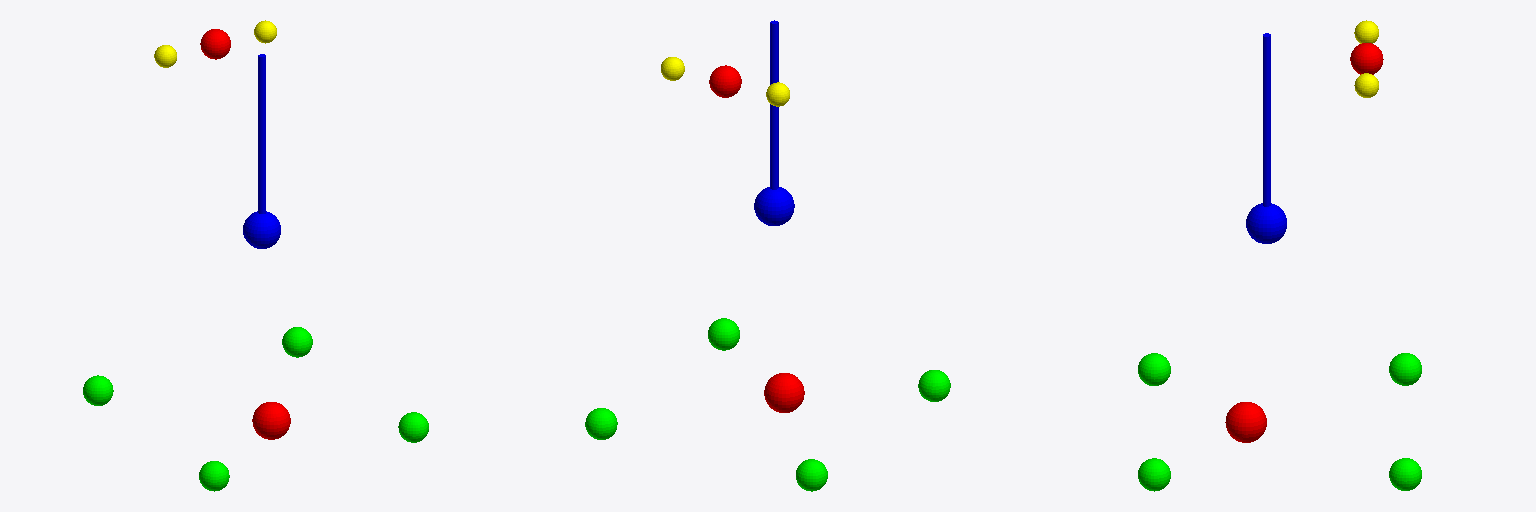
robot.urdf — foldable_chair_gen:
<?xml version="1.0"?>
<robot name="foldable_chair_gen">

  <link name="link_2">
    <inertial>
      <mass value="1.0" /> <inertia ixx="0.01" ixy="0" ixz="0" iyy="0.01" iyz="0" izz="0.01" />
    </inertial>
    <visual>
      <geometry><sphere radius="0.05"/></geometry>
      <material name="anchor_red"><color rgba="1 0 0 1"/></material>
    </visual>
  </link>

  <link name="slide_link_x">
    <inertial>
      <mass value="0.01" />
      <inertia ixx="0.001" ixy="0" ixz="0" iyy="0.001" iyz="0" izz="0.001" />
    </inertial>
  </link>

  <link name="slide_link_y">
    <inertial>
      <mass value="0.01" />
      <inertia ixx="0.001" ixy="0" ixz="0" iyy="0.001" iyz="0" izz="0.001" />
    </inertial>
  </link>


  <joint name="floor_slide_x" type="prismatic">
    <parent link="link_2" />
    <child link="slide_link_x" />
    <axis xyz="1 0 0" />
    <limit lower="-10.0" upper="10.0" effort="1000.0" velocity="5.0" />
    <dynamics damping="0.1" friction="0.1" />
  </joint>

  <joint name="floor_slide_y" type="prismatic">
    <parent link="slide_link_x" />
    <child link="slide_link_y" />
    <axis xyz="0 1 0" />
    <limit lower="-10.0" upper="10.0" effort="1000.0" velocity="5.0" />
    <dynamics damping="0.1" friction="0.1" />
  </joint>

  <joint name="floor_rotate_z" type="continuous">
    <parent link="slide_link_y" />
    <child link="base_link" />
    <axis xyz="0 0 1" />
    <dynamics damping="1.0" friction="0.1" />
  </joint>

  <link name="base_link">
    <visual>
      <origin xyz="0 0 0.0006832693307789943" rpy="0 0 0" />
      <geometry>
        <mesh filename="mesh/foldable_chair.dae" scale="0.1242771356260756 0.1242771356260756 0.1242771356260756" />
      </geometry>
    </visual>
    <inertial>
      <mass value="5.0" />
      <origin xyz="1.2356480307692006e-17 0.04918193924989267 0.5275596101737766" />
      <inertia ixx="0.1" ixy="0" ixz="0" iyy="0.1" iyz="0" izz="0.1" />
    </inertial>
  </link>

  <link name="debug_top_center">
    <visual>
      <origin xyz="0 0 0" rpy="0 0 0" />
      <geometry><sphere radius="0.04" /></geometry>
      <material name="m_debug_top_center"><color rgba="1 0 0 1" /></material>
    </visual>
  </link>
  <joint name="j_debug_top_center" type="fixed">
    <parent link="base_link" />
    <child link="debug_top_center" />
    <origin xyz="0.0 0.29020362379482156 0.9632205982065832" rpy="0 0 0" />
  </joint>

  <link name="target_hand_left">
    <visual>
      <origin xyz="0 0 0" rpy="0 0 0" />
      <geometry><sphere radius="0.03" /></geometry>
      <material name="m_target_hand_left"><color rgba="1 1 0 1" /></material>
    </visual>
  </link>
  <joint name="j_target_hand_left" type="fixed">
    <parent link="base_link" />
    <child link="target_hand_left" />
    <origin xyz="0.15 0.29020362379482156 0.9632205982065832" rpy="0 0 -1.5708" />
  </joint>

  <link name="target_hand_right">
    <visual>
      <origin xyz="0 0 0" rpy="0 0 0" />
      <geometry><sphere radius="0.03" /></geometry>
      <material name="m_target_hand_right"><color rgba="1 1 0 1" /></material>
    </visual>
  </link>
  <joint name="j_target_hand_right" type="fixed">
    <parent link="base_link" />
    <child link="target_hand_right" />
    <origin xyz="-0.15 0.29020362379482156 0.9632205982065832" rpy="0 0 -1.5708" />
  </joint>

  <link name="debug_com">
    <visual>
      <origin xyz="0 0 0" rpy="0 0 0" />
      <geometry><sphere radius="0.05" /></geometry>
      <material name="m_debug_com"><color rgba="0 0 1 1" /></material>
    </visual>
  </link>
  <joint name="j_debug_com" type="fixed">
    <parent link="base_link" />
    <child link="debug_com" />
    <origin xyz="1.2356480307692006e-17 0.04918193924989267 0.5275596101737766" rpy="0 0 0" />
  </joint>

  <link name="debug_vec">
    <visual>
      <origin xyz="0 0 0" rpy="0 0 0" />
      <geometry><cylinder radius="0.01" length="0.5" /></geometry>
      <material name="m_debug_vec"><color rgba="0 0 1 0.5" /></material>
    </visual>
  </link>
  <joint name="j_debug_vec" type="fixed">
    <parent link="base_link" />
    <child link="debug_vec" />
    <origin xyz="1.2356480307692006e-17 0.04918193924989267 0.7775596101737766" rpy="0 0 0" />
  </joint>

  <link name="debug_foot_0">
    <visual>
      <origin xyz="0 0 0" rpy="0 0 0" />
      <geometry><sphere radius="0.04" /></geometry>
      <material name="m_debug_foot_0"><color rgba="0 1 0 1" /></material>
    </visual>
  </link>
  <joint name="j_debug_foot_0" type="fixed">
    <parent link="base_link" />
    <child link="debug_foot_0" />
    <origin xyz="-0.299405804225286 -0.22087093938440658 0.0" rpy="0 0 0" />
  </joint>

  <link name="debug_foot_1">
    <visual>
      <origin xyz="0 0 0" rpy="0 0 0" />
      <geometry><sphere radius="0.04" /></geometry>
      <material name="m_debug_foot_1"><color rgba="0 1 0 1" /></material>
    </visual>
  </link>
  <joint name="j_debug_foot_1" type="fixed">
    <parent link="base_link" />
    <child link="debug_foot_1" />
    <origin xyz="-0.29914276140104434 0.3832650628893974 0.000839614003599516" rpy="0 0 0" />
  </joint>

  <link name="debug_foot_2">
    <visual>
      <origin xyz="0 0 0" rpy="0 0 0" />
      <geometry><sphere radius="0.04" /></geometry>
      <material name="m_debug_foot_2"><color rgba="0 1 0 1" /></material>
    </visual>
  </link>
  <joint name="j_debug_foot_2" type="fixed">
    <parent link="base_link" />
    <child link="debug_foot_2" />
    <origin xyz="0.299405804225286 -0.22087093938440655 0.0" rpy="0 0 0" />
  </joint>

  <link name="debug_foot_3">
    <visual>
      <origin xyz="0 0 0" rpy="0 0 0" />
      <geometry><sphere radius="0.04" /></geometry>
      <material name="m_debug_foot_3"><color rgba="0 1 0 1" /></material>
    </visual>
  </link>
  <joint name="j_debug_foot_3" type="fixed">
    <parent link="base_link" />
    <child link="debug_foot_3" />
    <origin xyz="0.29914276140104434 0.3832650628893974 0.000839614003599516" rpy="0 0 0" />
  </joint>

</robot>

--- Render facts (derived) ---
The picture shows the robot from 3 angles, left to right: view 1: azimuth 30°, elevation 25°; view 2: azimuth 150°, elevation 25°; view 3: azimuth 270°, elevation 25°; orthographic projection.
Model foldable_chair_gen with 13 links and 12 joints (1 continuous, 2 prismatic, 9 fixed), rooted at link_2, posed every joint at zero.
Visible links, largest first — view 1: debug_vec, link_2, debug_com, debug_foot_0, debug_foot_2, debug_top_center, debug_foot_1, debug_foot_3; view 2: debug_vec, link_2, debug_com, debug_foot_0, debug_foot_2, debug_foot_3, debug_foot_1, debug_top_center; view 3: debug_vec, link_2, debug_com, debug_foot_0, debug_foot_1, debug_foot_3, debug_foot_2, debug_top_center.
Link boxes in pixels (<box>): debug_vec: <box>258,54,265,213</box>; link_2: <box>252,402,290,439</box>; debug_com: <box>243,211,280,248</box>; debug_foot_0: <box>199,461,229,491</box>; debug_foot_2: <box>398,412,428,442</box>; debug_top_center: <box>200,29,230,59</box>; debug_foot_1: <box>83,375,113,405</box>; debug_foot_3: <box>282,327,312,357</box>; debug_vec: <box>770,20,778,189</box>; link_2: <box>764,373,804,412</box>; debug_com: <box>754,187,794,225</box>; debug_foot_0: <box>918,370,950,401</box>; debug_foot_2: <box>708,318,739,350</box>; debug_foot_3: <box>585,408,617,439</box>; debug_foot_1: <box>796,459,827,491</box>; debug_top_center: <box>709,65,741,97</box>; debug_vec: <box>1263,33,1270,206</box>; link_2: <box>1225,402,1266,442</box>; debug_com: <box>1246,203,1286,243</box>; debug_foot_0: <box>1138,353,1170,385</box>; debug_foot_1: <box>1389,353,1421,385</box>; debug_foot_3: <box>1389,458,1421,490</box>; debug_foot_2: <box>1138,458,1170,491</box>; debug_top_center: <box>1350,43,1383,74</box>.
Bounding box of the posed robot: 0.6788 × 0.6841 × 1.08 m (x, y, z).
0 mesh visuals loaded from 1 distinct referenced files (none loaded); not drawn: 1 (reference not matched to a file when rendering).
